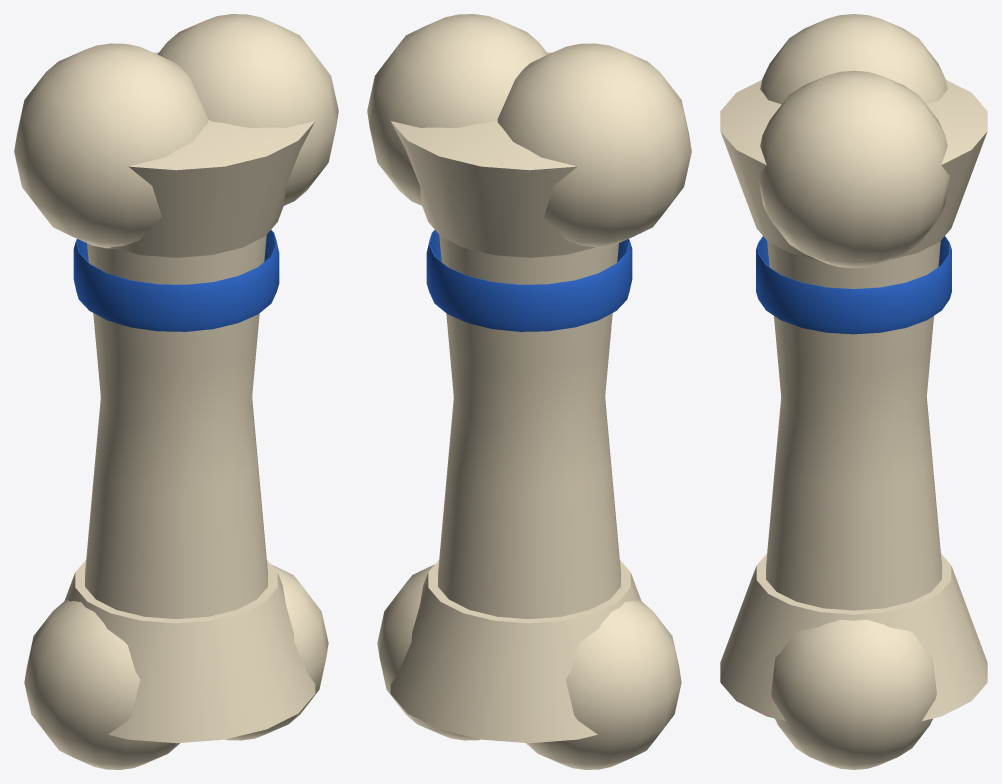
The model's file is Kit_Limb_Bone_S.glb.
The picture shows the model from 3 angles, left to right: view 1: azimuth 30°, elevation 25°; view 2: azimuth 150°, elevation 25°; view 3: azimuth 270°, elevation 25°; orthographic projection. The views are drawn at different scales.
Visible parts, largest first — view 1: Kit_Limb_Bone_S; view 2: Kit_Limb_Bone_S; view 3: Kit_Limb_Bone_S.
Part boxes in pixels (x1,y1,x2,y2): Kit_Limb_Bone_S: [14, 14, 338, 769]; Kit_Limb_Bone_S: [367, 14, 691, 769]; Kit_Limb_Bone_S: [720, 14, 987, 769].
Size of the model in its own units: 0.1206 by 0.2733 by 0.0971.
